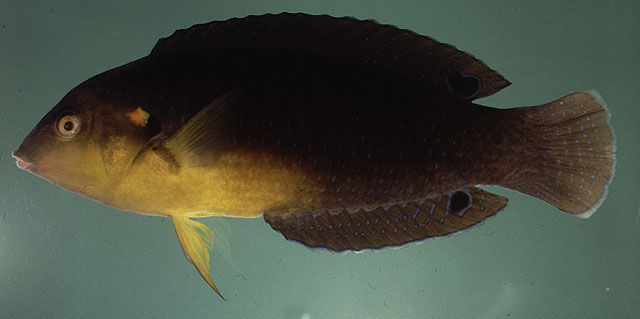fish: (15, 12, 617, 302)
